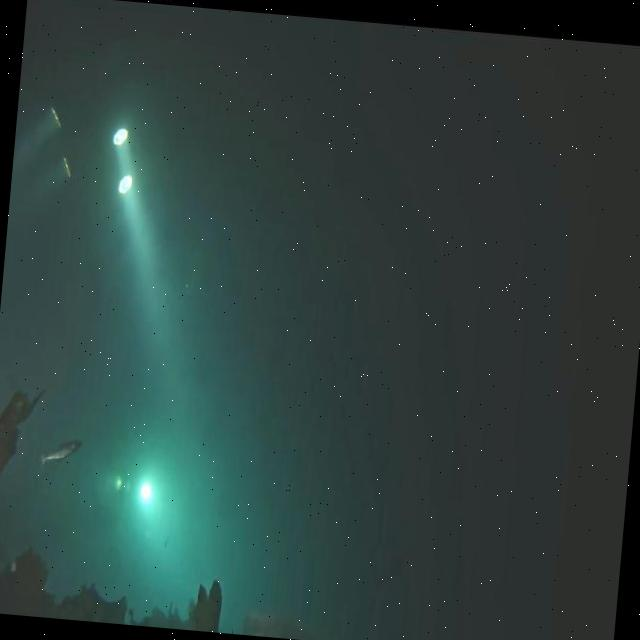fish: (40, 436, 81, 472)
